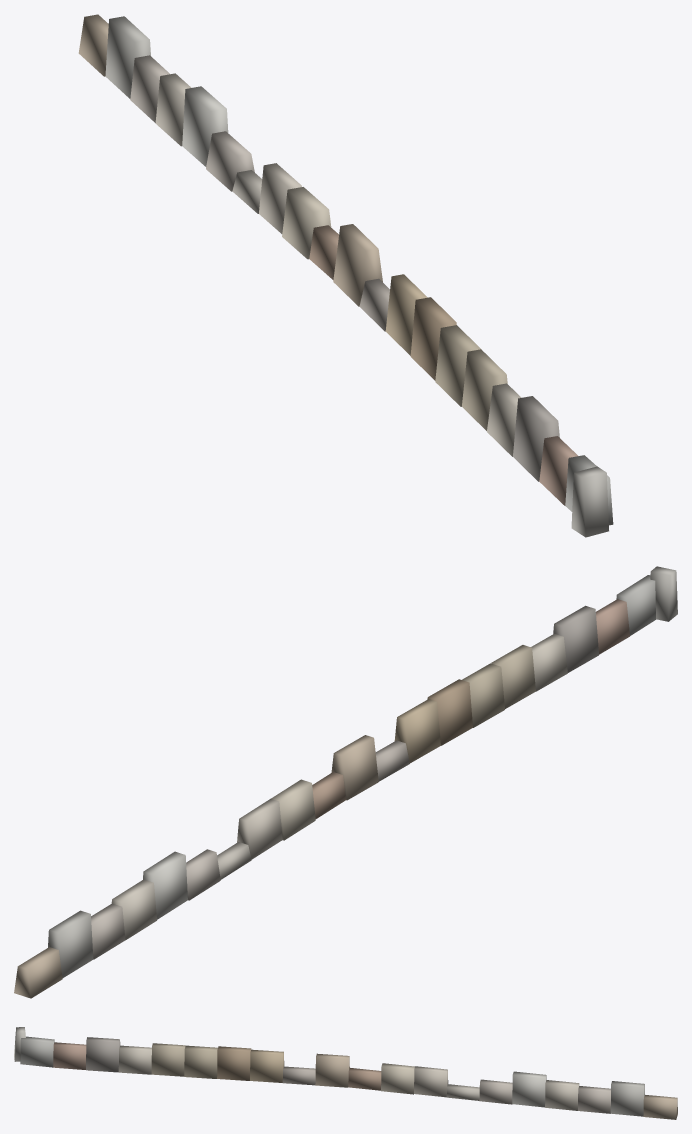
File: farm_16_16_collision.glb
3 renders of one model, top to bottom at view 1: azimuth 30°, elevation 25°; view 2: azimuth 150°, elevation 25°; view 3: azimuth 270°, elevation 25°, orthographic. The views are drawn at different scales.
Parts seen in each view (by area): view 1: geometry_0; view 2: geometry_0; view 3: geometry_0.
Part boxes in pixels (x1=…): geometry_0: x1=78, y1=14, x2=613, y2=537; geometry_0: x1=14, y1=566, x2=677, y2=998; geometry_0: x1=14, y1=1027, x2=677, y2=1119.
Size of the model in its own units: 5.04 by 2.58 by 31.91.
